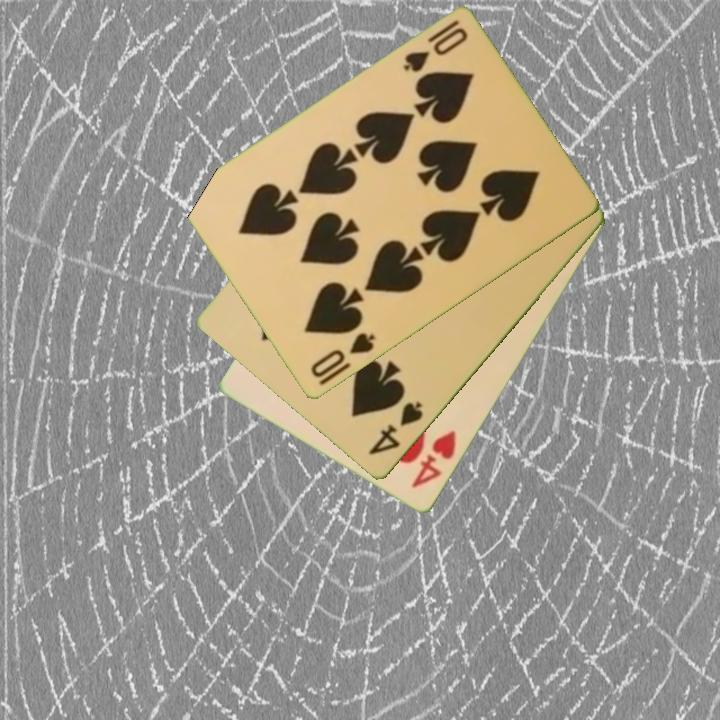10s: (399, 17, 471, 76), (307, 329, 378, 382)
4h: (408, 427, 460, 492)
4s: (365, 398, 427, 459)
